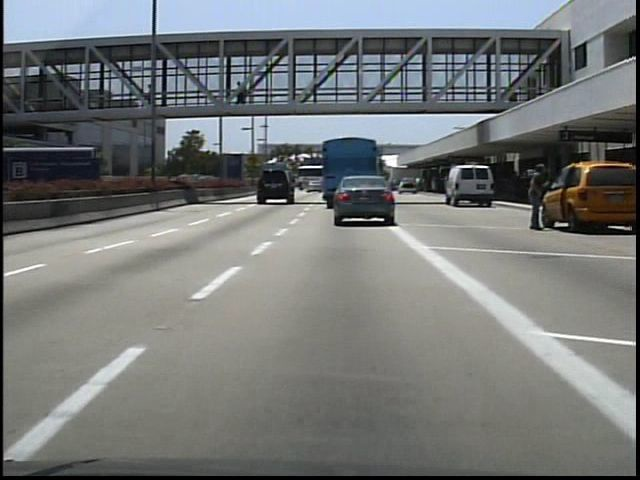person: (525, 161, 551, 230), (233, 79, 249, 113), (145, 81, 160, 109)
